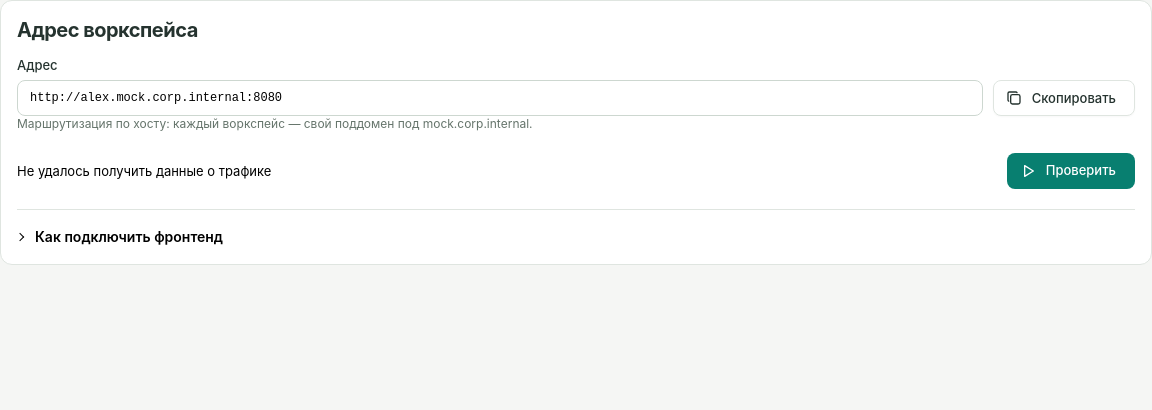
ConnectPanel › reports an HTTP failure with the status the mock actually returned
Click the button with test id "connect-probe-button": (1071,171) [1007,153,1135,189]
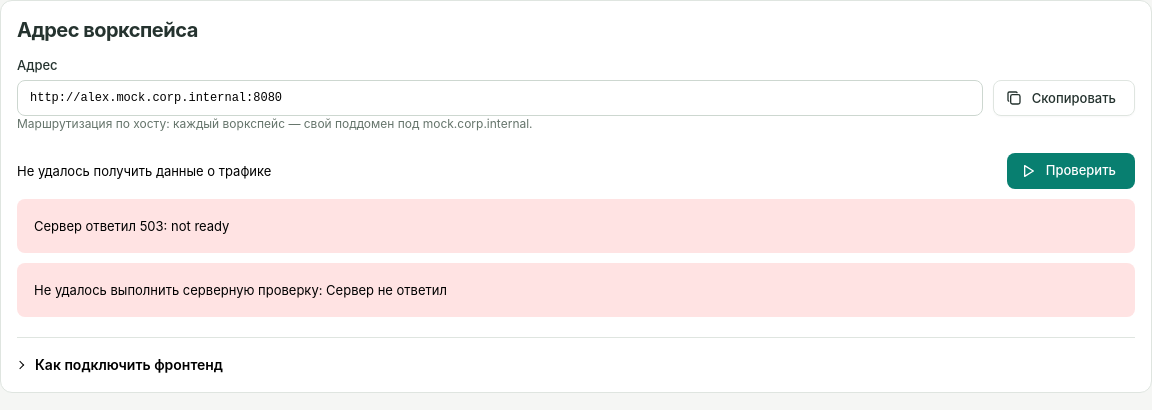
Expected: the message with test id "connect-probe-result" shows "503", [140,218,164,234]
